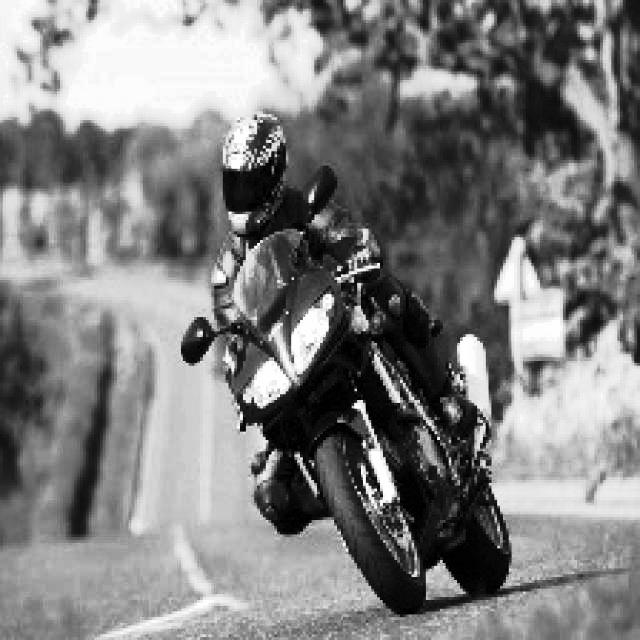Bike: (232, 255, 517, 623)
